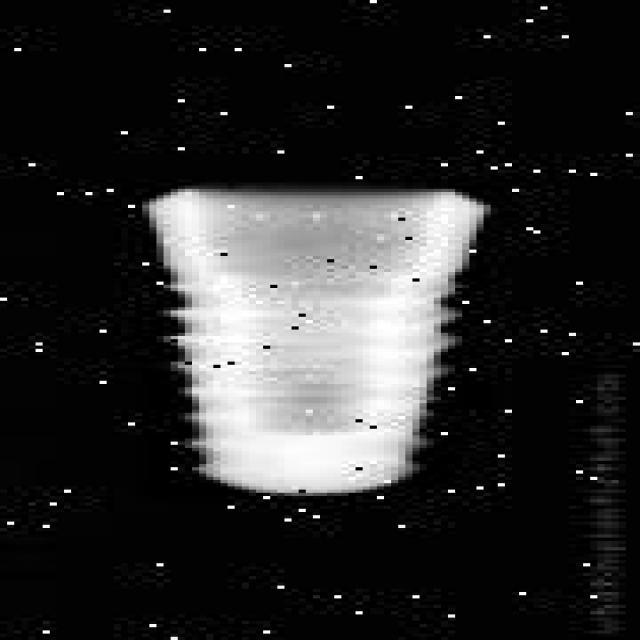Titan Implant Implant: (142, 186, 491, 499)
